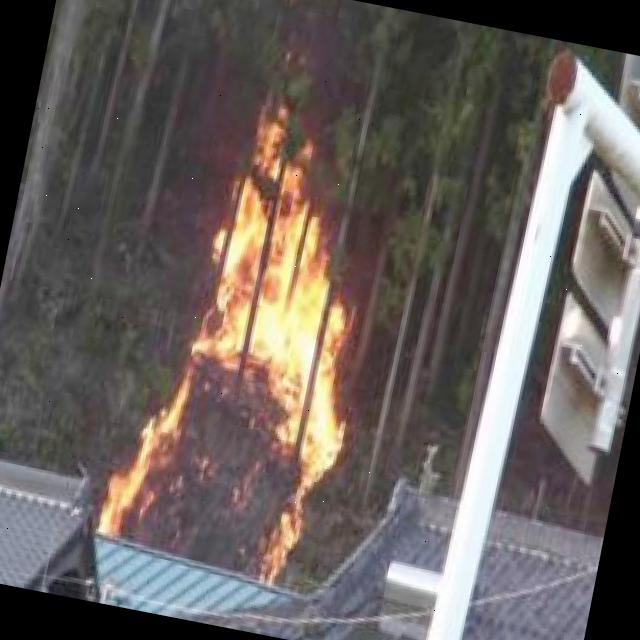fire: (96, 104, 398, 584)
